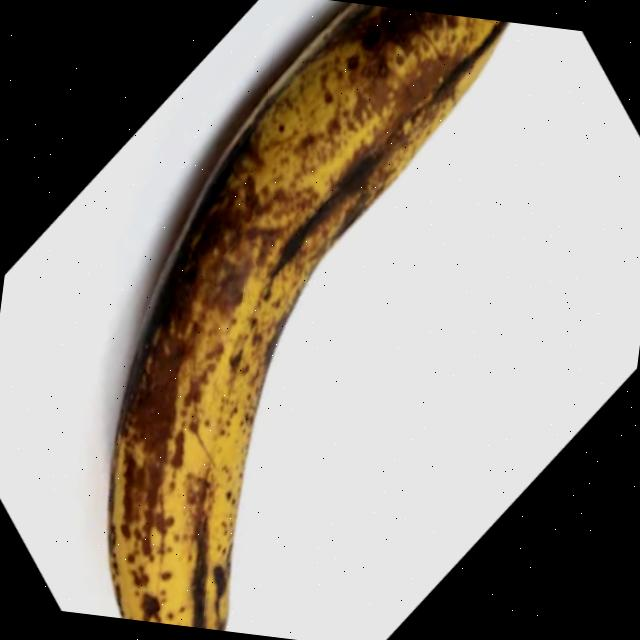overripe: (86, 0, 511, 640)
